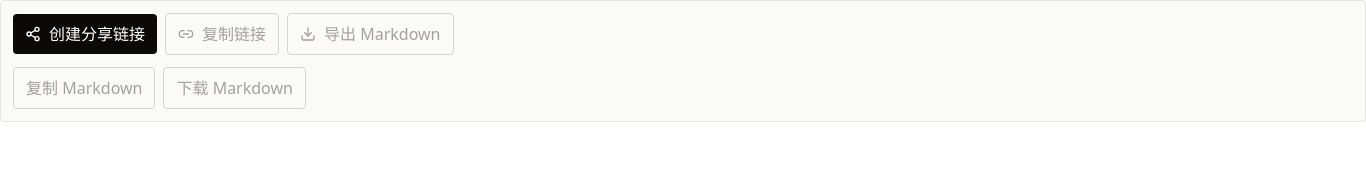
chain sharing frontend › creates share snapshot from the selected path and displays share URL
Step 1. Click the button "创建分享链接" → (85, 34), box [13, 14, 157, 54]
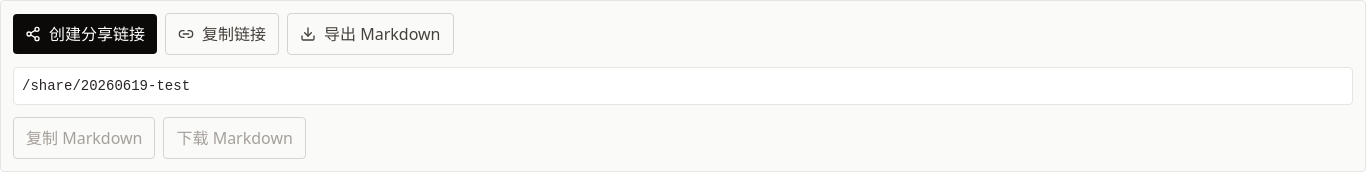
expect the text "/share/20260619-test" is shown: met, box [13, 67, 1353, 105]
